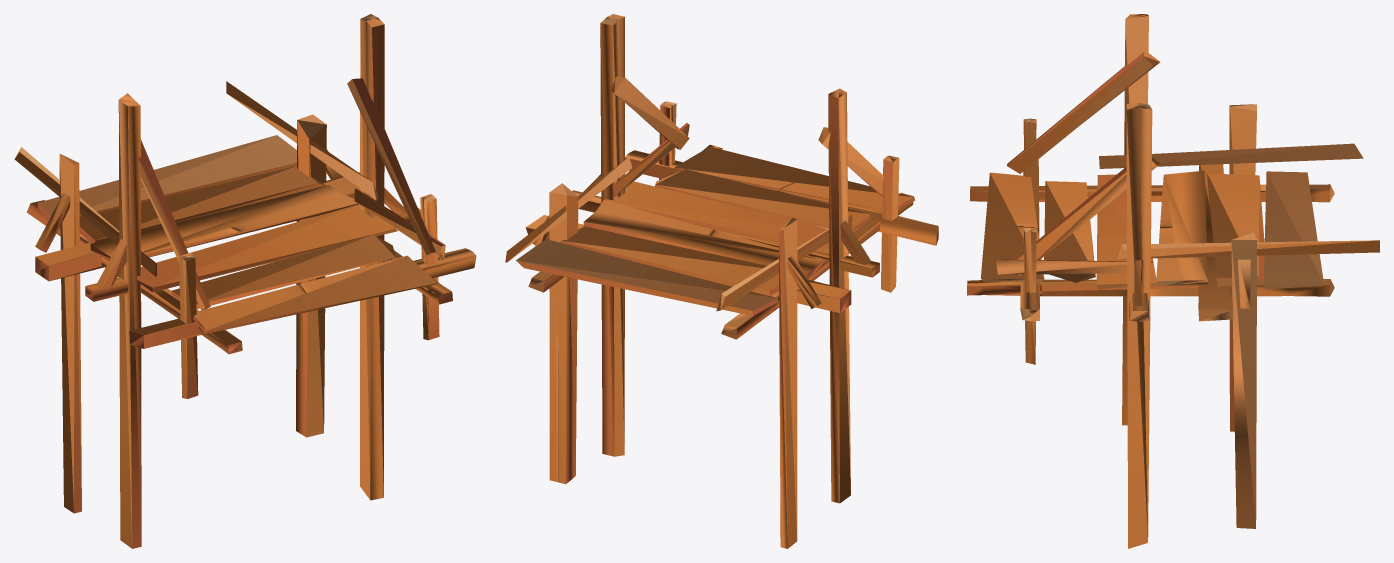
The model's file is GL-Manmade-06-LOD3.fbx.
3 views of the same model, side by side, from view 1: azimuth 30°, elevation 25°; view 2: azimuth 150°, elevation 25°; view 3: azimuth 270°, elevation 25° (orthographic). The views are drawn at different scales.
Parts seen in each view (by area): view 1: GL_Manmade_06; view 2: GL_Manmade_06; view 3: GL_Manmade_06.
Part boxes in pixels (x1,y1,x2,y2): GL_Manmade_06: (14, 14, 476, 548); GL_Manmade_06: (505, 14, 938, 548); GL_Manmade_06: (967, 14, 1379, 548).
Bounding box in the file's own units: 1.25 × 1.65 × 1.4.
